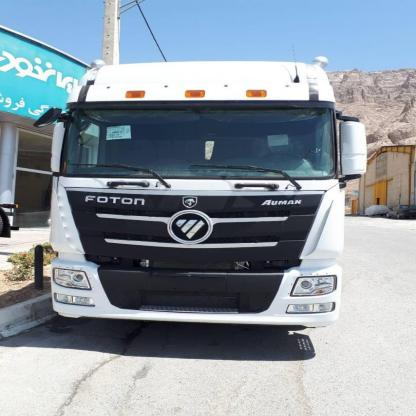Car: (385, 207, 416, 226)
Truck: (42, 63, 362, 344)
